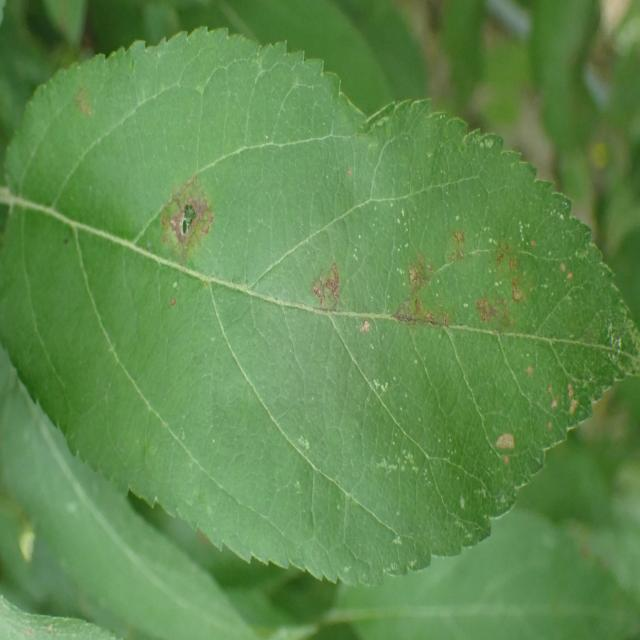scab: (15, 60, 633, 469)
